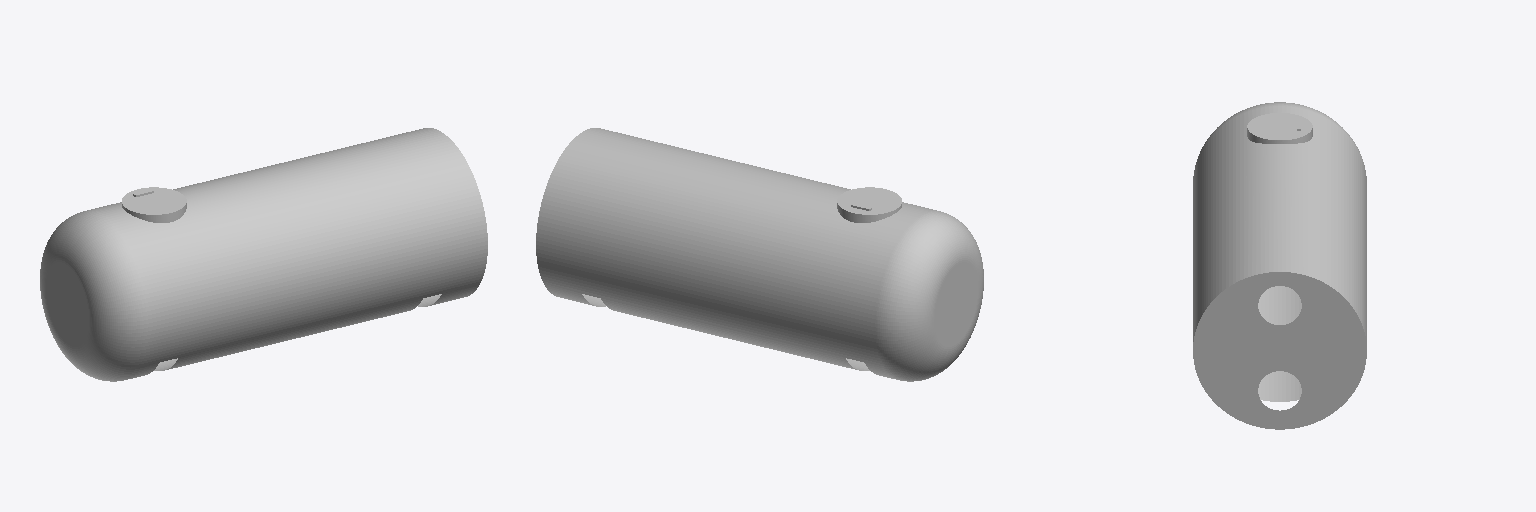
Rendered from heater_base.obj.
3 renders of one model, left to right at view 1: azimuth 30°, elevation 25°; view 2: azimuth 150°, elevation 25°; view 3: azimuth 270°, elevation 25°, orthographic.
Visible parts, largest first — view 1: obj1; view 2: obj1; view 3: obj1.
Boxes of the visible parts, x1,y1,x2,y2 form: obj1: [40, 128, 487, 381]; obj1: [536, 128, 983, 381]; obj1: [1193, 102, 1366, 429].
Bounding box in the file's own units: 20 × 8.28 × 8.